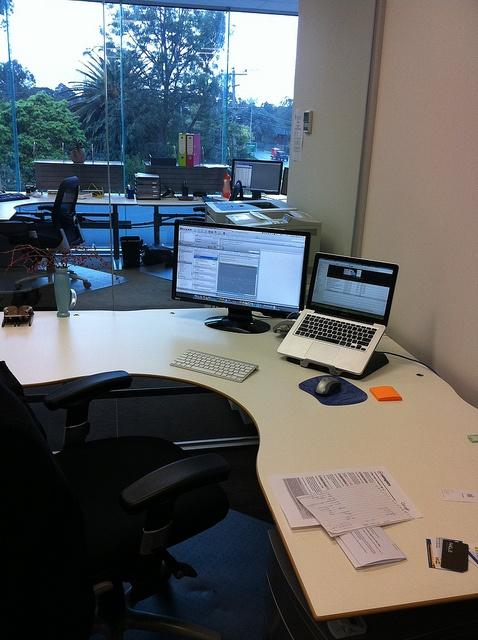AIO PC-Monitor-TV: (171, 218, 309, 334)
